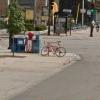Bicycle: (42, 34, 68, 61)
